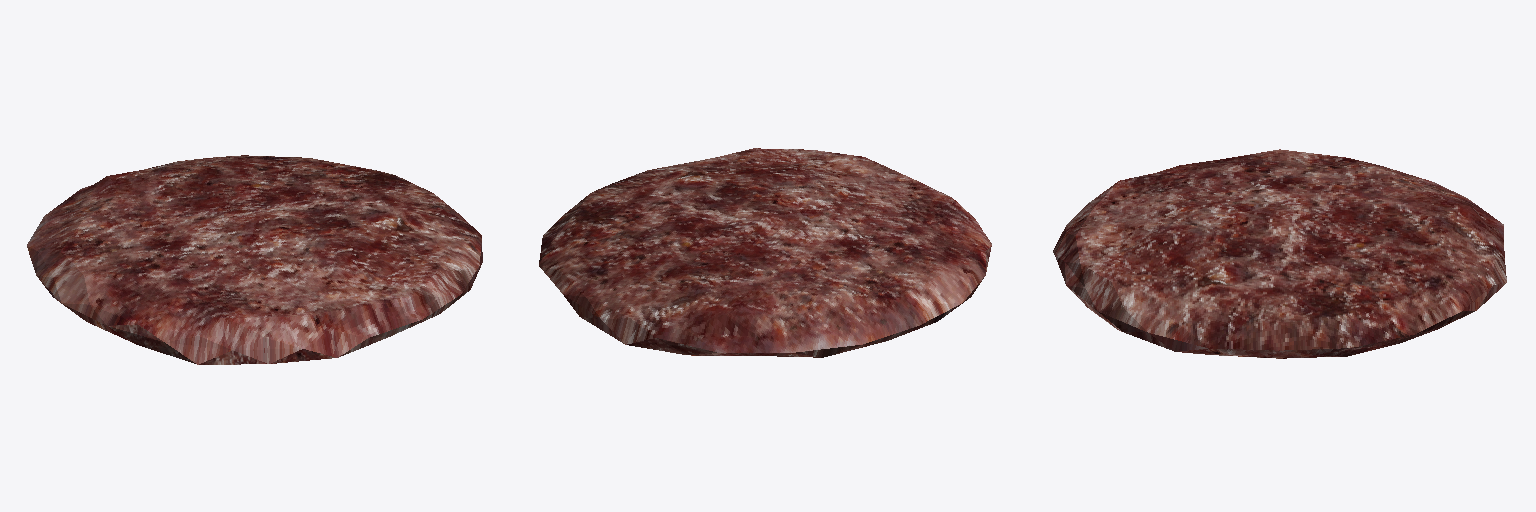
3 renders of one model, left to right at view 1: azimuth 30°, elevation 25°; view 2: azimuth 150°, elevation 25°; view 3: azimuth 270°, elevation 25°, orthographic.
Parts seen in each view (by area): view 1: Icosphere; view 2: Icosphere; view 3: Icosphere.
Boxes of the visible parts, box(x1,y1,x2,y2) form: Icosphere: box(27, 155, 482, 364); Icosphere: box(539, 148, 991, 357); Icosphere: box(1053, 149, 1506, 358).
Size of the model in its own units: 2 by 0.3865 by 2.02.
Materials: 1 (1 with a texture image).